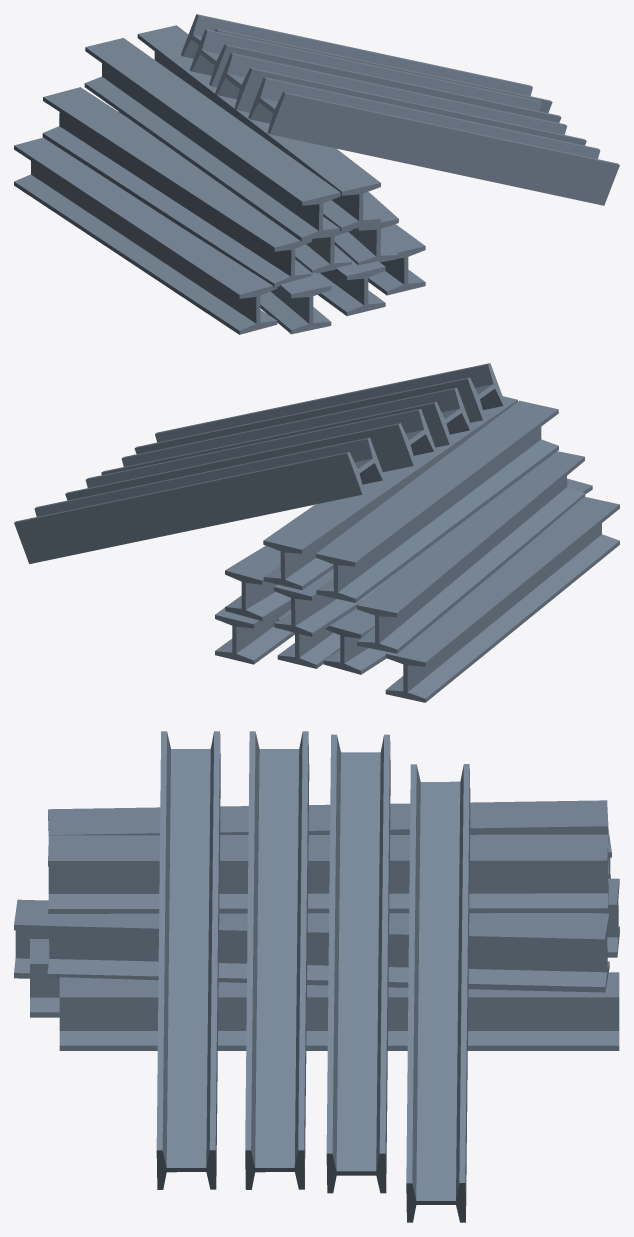
File: metal beams_ramp.fbx
3 renders of one model, top to bottom at view 1: azimuth 30°, elevation 25°; view 2: azimuth 150°, elevation 25°; view 3: azimuth 270°, elevation 25°, orthographic. The views are drawn at different scales.
Parts seen in each view (by area): view 1: Cube.009, Cube.008, Cube.004, Cube.003, Cube.011, Cube.010, Cube.007, Cube.012, Cube.002, Cube, Cube.006, Cube.001 (+1 smaller); view 2: Cube.012, Cube.008, Cube.004, Cube.003, Cube.011, Cube.007, Cube.009, Cube.010, Cube.006, Cube.005, Cube.001, Cube.002 (+1 smaller); view 3: Cube.011, Cube.012, Cube.009, Cube.010, Cube.007, Cube.006, Cube.001, Cube.008, Cube, Cube.002, Cube.005.
Part boxes in pixels (x1,y1,x2,y2): Cube.009: [248, 77, 619, 205]; Cube.008: [84, 38, 340, 241]; Cube.004: [42, 87, 311, 287]; Cube.003: [14, 137, 277, 334]; Cube.011: [189, 29, 561, 122]; Cube.010: [215, 53, 586, 145]; Cube.007: [137, 25, 380, 231]; Cube.012: [180, 14, 552, 112]; Cube.002: [260, 259, 331, 334]; Cube: [317, 245, 385, 315]; Cube.006: [334, 191, 398, 265]; Cube.001: [368, 224, 425, 295]; Cube.012: [14, 437, 384, 563]; Cube.008: [316, 400, 558, 602]; Cube.004: [356, 451, 585, 653]; Cube.003: [385, 496, 619, 702]; Cube.011: [65, 408, 435, 500]; Cube.007: [263, 396, 517, 590]; Cube.009: [134, 363, 505, 453]; Cube.010: [101, 387, 472, 474]; Cube.006: [225, 545, 290, 621]; Cube.005: [274, 569, 391, 636]; Cube.001: [215, 595, 294, 664]; Cube.002: [323, 478, 592, 674]; Cube.011: [326, 734, 390, 1193]; Cube.012: [406, 764, 470, 1222]; Cube.009: [156, 731, 220, 1189]; Cube.010: [245, 731, 309, 1189]; Cube.007: [48, 834, 608, 914]; Cube.006: [47, 913, 609, 992]; Cube.001: [59, 972, 619, 1050]; Cube.008: [48, 800, 608, 878]; Cube: [30, 939, 59, 1017]; Cube.002: [14, 899, 48, 978]; Cube.005: [607, 878, 619, 957].
Bounding box in the file's own units: 309 × 128 × 263.
